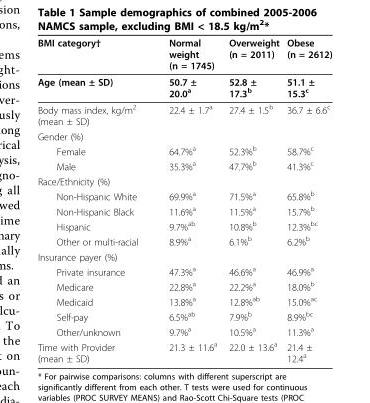table: (36, 36, 331, 363)
table column: (36, 36, 152, 363), (152, 36, 222, 363), (222, 36, 282, 363), (282, 36, 331, 363)
table column header: (36, 36, 331, 73)
table projected row header: (36, 128, 331, 142), (36, 173, 331, 187), (36, 249, 331, 263)
table row: (36, 36, 331, 73), (36, 100, 331, 128), (36, 73, 331, 100), (36, 338, 331, 363), (36, 157, 331, 173), (36, 187, 331, 203), (36, 233, 331, 249), (36, 142, 331, 157), (36, 203, 331, 218), (36, 218, 331, 233), (36, 263, 331, 278), (36, 278, 331, 293), (36, 293, 331, 308), (36, 308, 331, 323), (36, 323, 331, 338), (36, 128, 331, 142), (36, 173, 331, 187), (36, 249, 331, 263)
